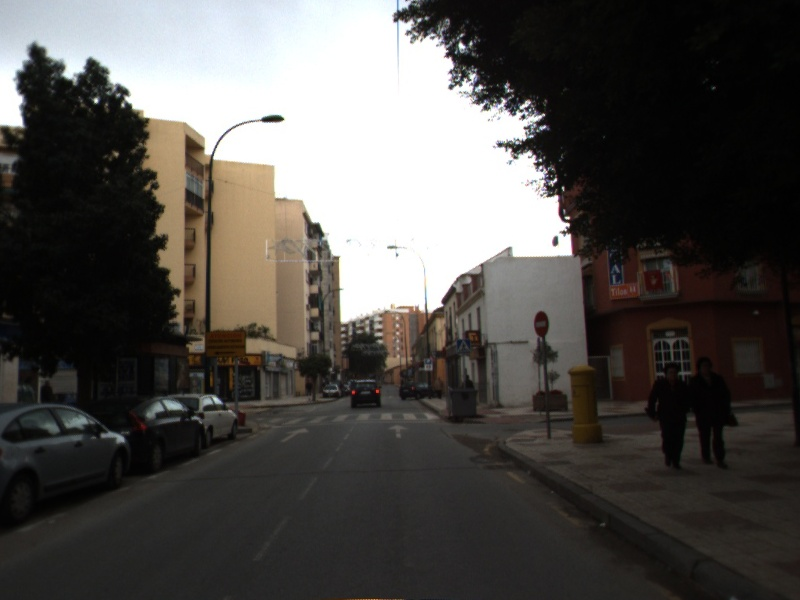STRAIGHT: (277, 426, 311, 444), (386, 422, 411, 440)
